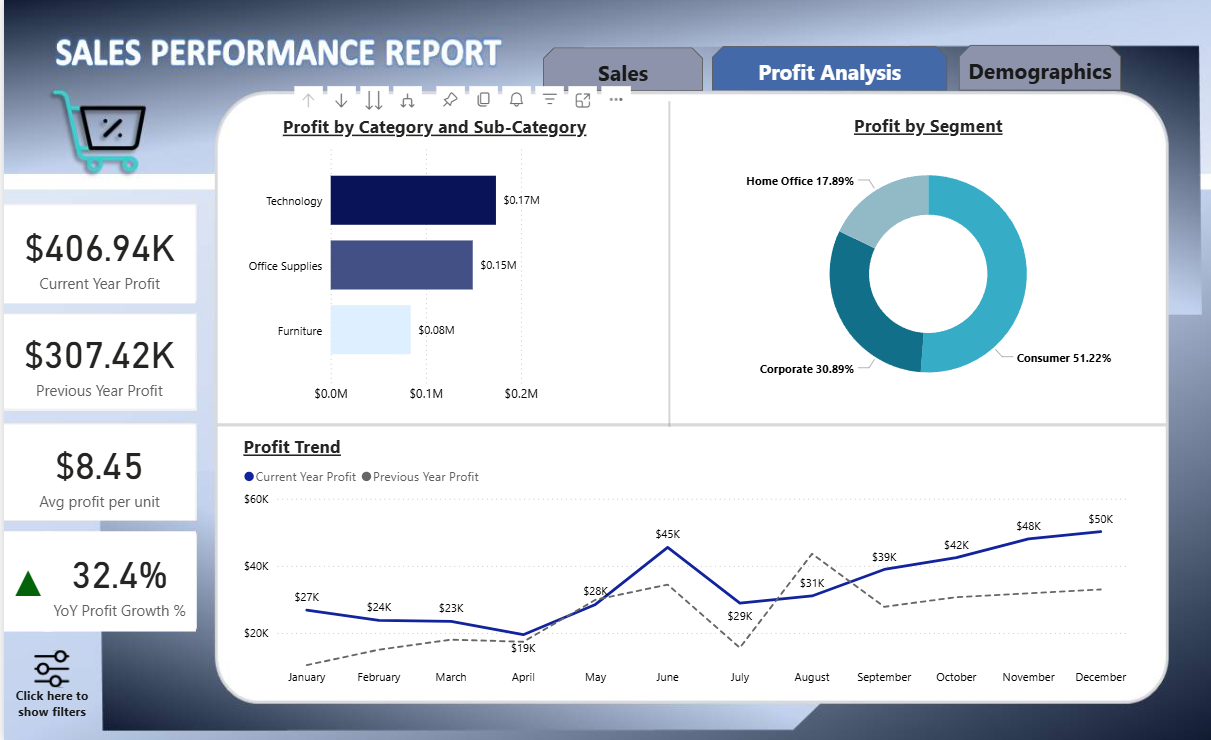

The page's visual inventory and layout, read from the dashboard file:
{"tool":"powerbi","page":{"name":"Profit Analysis","canvas":[1300,800],"ordinal":1},"visuals":[{"type":"card","fields":{"Values":["Calculation.Previous Year Profit"]},"box":[0,341.1,205,100.8],"z":0},{"type":"card","fields":{"Values":["Calculation.Avg profit per unit"]},"box":[0,459.1,205.2,102.6],"z":1000},{"type":"card","fields":{"Values":["Calculation.YoY Profit Growth %"]},"box":[42.2,573.3,163.4,107.6],"z":2000},{"type":"donutChart","title":" Profit by Segment","fields":{"Category":["globalsuperstore.Segment"],"Y":["Calculation.Total Profit"]},"box":[770.8,125.3,443.9,320],"z":3000},{"type":"actionButton","box":[578.4,53.9,171.8,47],"z":4000},{"type":"actionButton","box":[760.2,52.9,252.9,47.9],"z":5000},{"type":"actionButton","box":[1025.4,51.7,174.3,49],"z":6000},{"type":"clusteredBarChart","title":"Profit by Category and Sub-Category","fields":{"Y":["Calculation.Total Profit"],"Category":["globalsuperstore.Category","globalsuperstore.Sub-Category"]},"box":[251.4,125.7,423.2,319.3],"z":7000},{"type":"lineChart","title":"Profit Trend","fields":{"Category":["DateTable.Date.Variation.Date Hierarchy.Month"],"Y":["Calculation.Current Year Profit","Calculation.Previous Year Profit"]},"box":[251.9,469.8,962.8,280.5],"z":8000},{"type":"shape","box":[696.3,111.6,37.2,350.1],"z":9000},{"type":"actionButton","title":"ShowFilterButton","box":[1.7,697.2,100.8,82.3],"z":10000},{"type":"card","fields":{"Values":["Calculation.Current Year Profit"]},"box":[0,223.3,205.6,104.9],"z":12000},{"type":"card","fields":{"Values":["Calculation.YoY Icon Symbol"]},"box":[0,573.3,51.7,107.6],"z":13000}]}

Visuals, with their boxes in screenshot pixels (x1, y1, x2, y2), scaled from the page's 1300x800 canvas onto the 1211x740 screenshot:
card - Calculation.Previous Year Profit: rect(0, 316, 191, 409)
card - Calculation.Avg profit per unit: rect(0, 425, 191, 520)
card - Calculation.YoY Profit Growth %: rect(39, 530, 192, 630)
" Profit by Segment" donutChart: rect(718, 116, 1132, 412)
actionButton: rect(539, 50, 699, 93)
actionButton: rect(708, 49, 944, 93)
actionButton: rect(955, 48, 1118, 93)
"Profit by Category and Sub-Category" clusteredBarChart: rect(234, 116, 628, 412)
"Profit Trend" lineChart: rect(235, 435, 1132, 694)
shape: rect(649, 103, 683, 427)
"ShowFilterButton" actionButton: rect(2, 645, 95, 721)
card - Calculation.Current Year Profit: rect(0, 207, 192, 304)
card - Calculation.YoY Icon Symbol: rect(0, 530, 48, 630)
